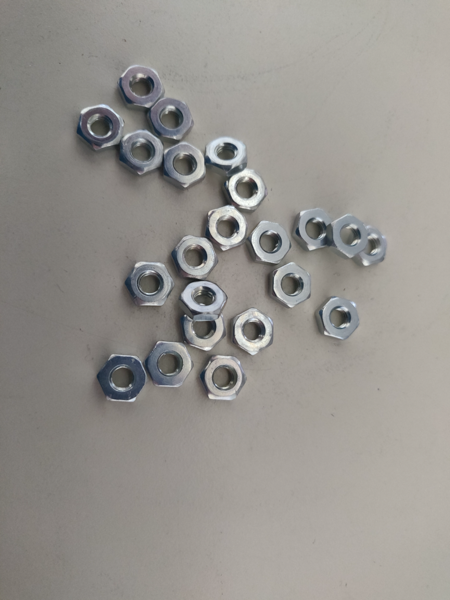nut: (199, 354, 249, 404), (97, 355, 146, 403), (76, 105, 123, 153), (227, 307, 274, 354), (162, 141, 207, 190), (124, 262, 173, 306), (118, 65, 163, 112), (149, 342, 195, 387), (118, 130, 163, 176), (181, 278, 227, 321), (271, 261, 313, 308), (318, 294, 360, 340), (151, 98, 194, 142), (173, 234, 216, 277), (209, 207, 248, 253), (330, 214, 369, 260), (251, 221, 290, 264), (226, 170, 266, 211), (206, 136, 247, 175), (294, 209, 331, 252), (186, 312, 223, 352), (360, 225, 387, 266)
